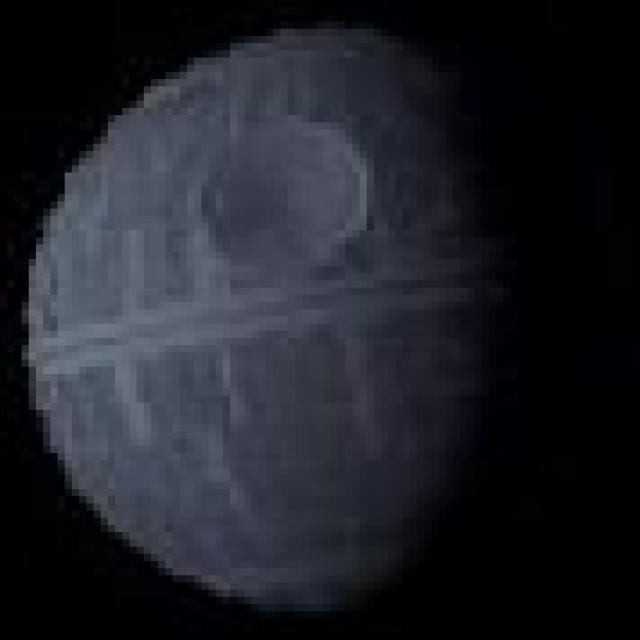Death Star: (7, 14, 511, 618)
